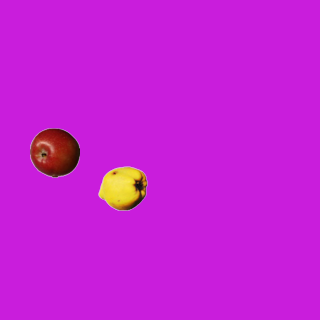Apple Braeburn: (29, 127, 79, 177)
Quince: (97, 163, 147, 213)
